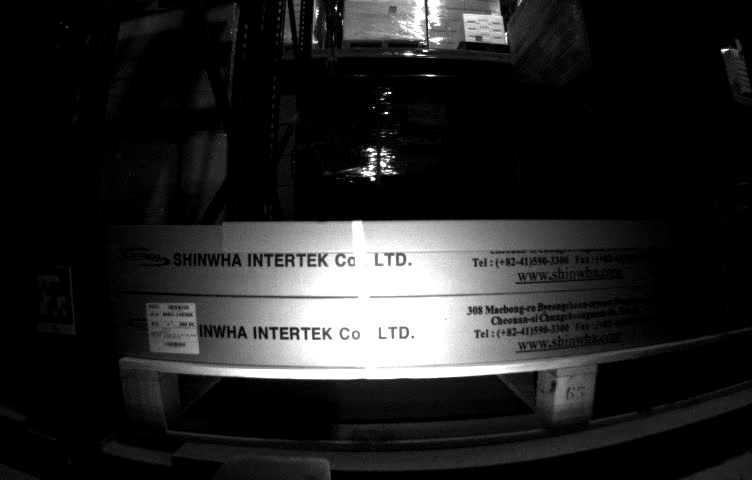True Barcode: (144, 301, 199, 356)
